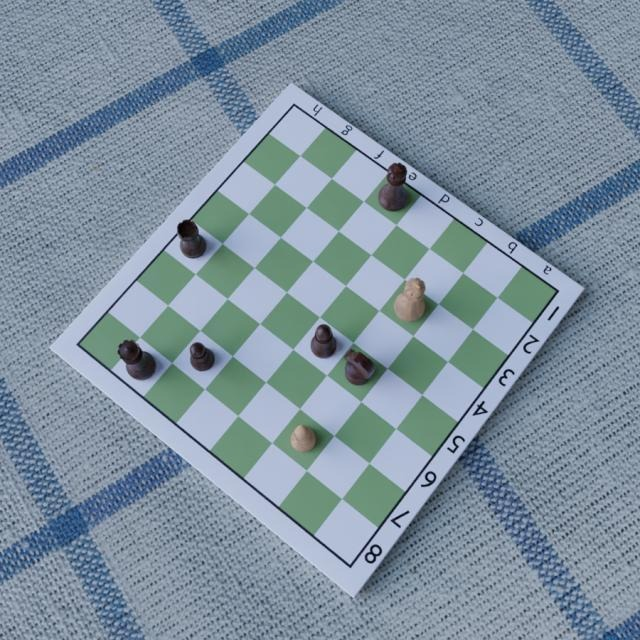black-king: (376, 159, 410, 213)
black-knight: (343, 347, 377, 388)
black-pawn: (188, 340, 216, 376)
black-queen: (116, 337, 157, 384)
black-rook: (175, 217, 209, 262)
white-bishop: (310, 323, 338, 361)
white-king: (392, 275, 426, 325)
white-pawn: (290, 422, 318, 454)
